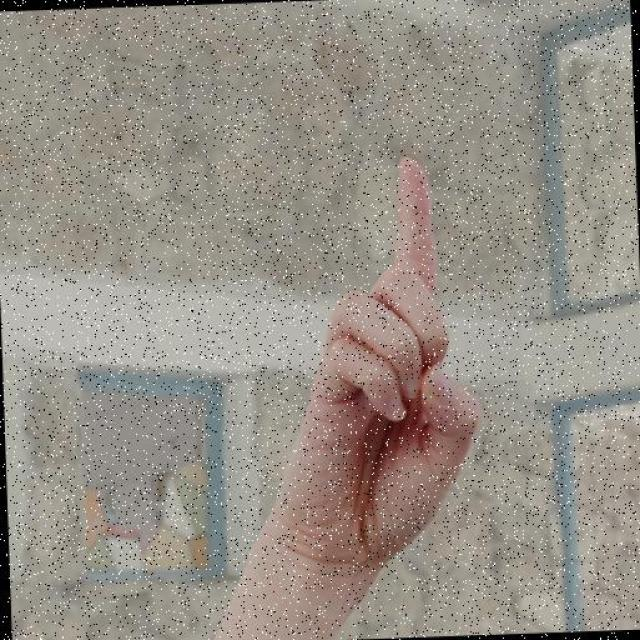D: (223, 149, 488, 600)
